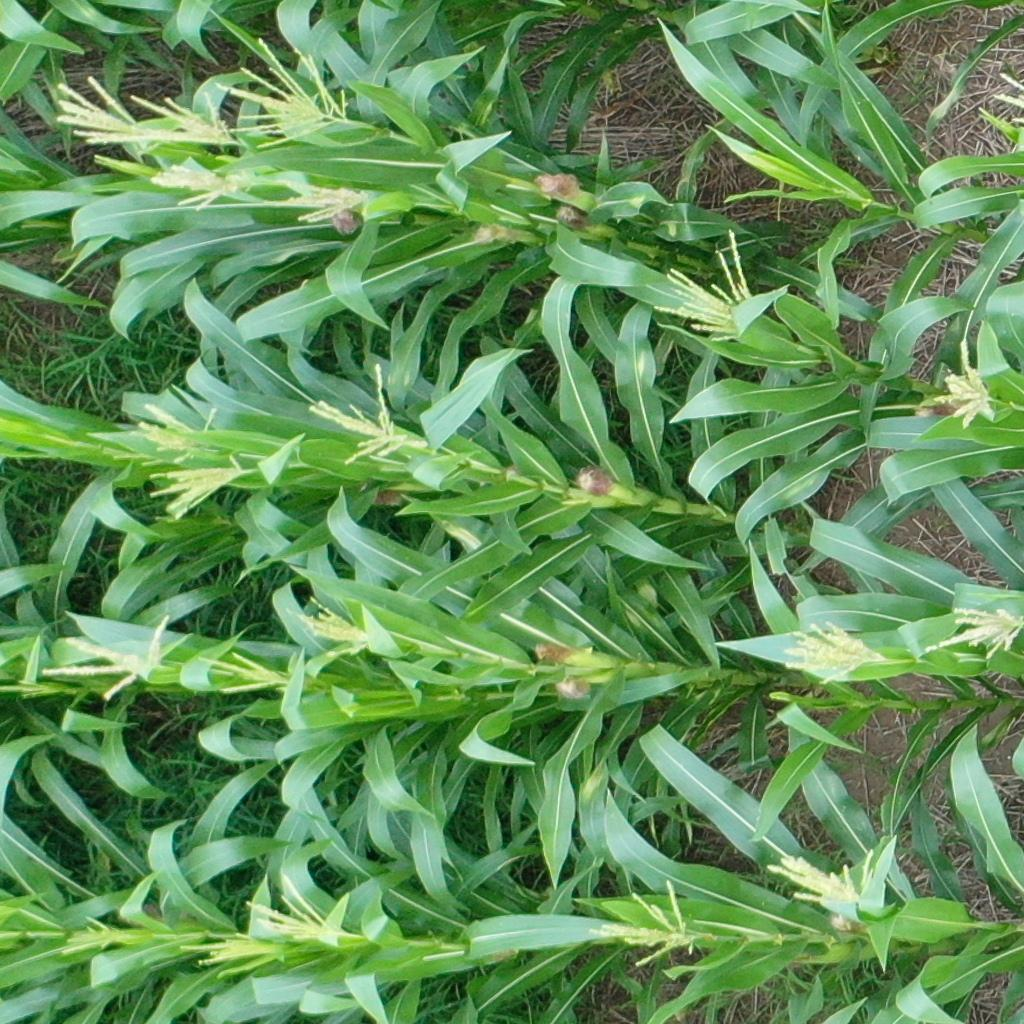Tassel: (222, 35, 361, 150), (652, 222, 765, 344), (36, 613, 176, 704), (301, 361, 411, 466), (588, 877, 703, 972), (56, 77, 159, 165), (765, 842, 878, 916), (924, 335, 1003, 436), (778, 617, 887, 685), (132, 84, 236, 155), (149, 454, 256, 523), (242, 871, 332, 945), (925, 595, 1024, 661), (151, 154, 257, 213), (136, 397, 222, 463), (292, 591, 372, 661), (273, 176, 374, 227), (199, 644, 288, 699), (173, 927, 276, 969), (58, 915, 133, 961), (990, 65, 1024, 129)
